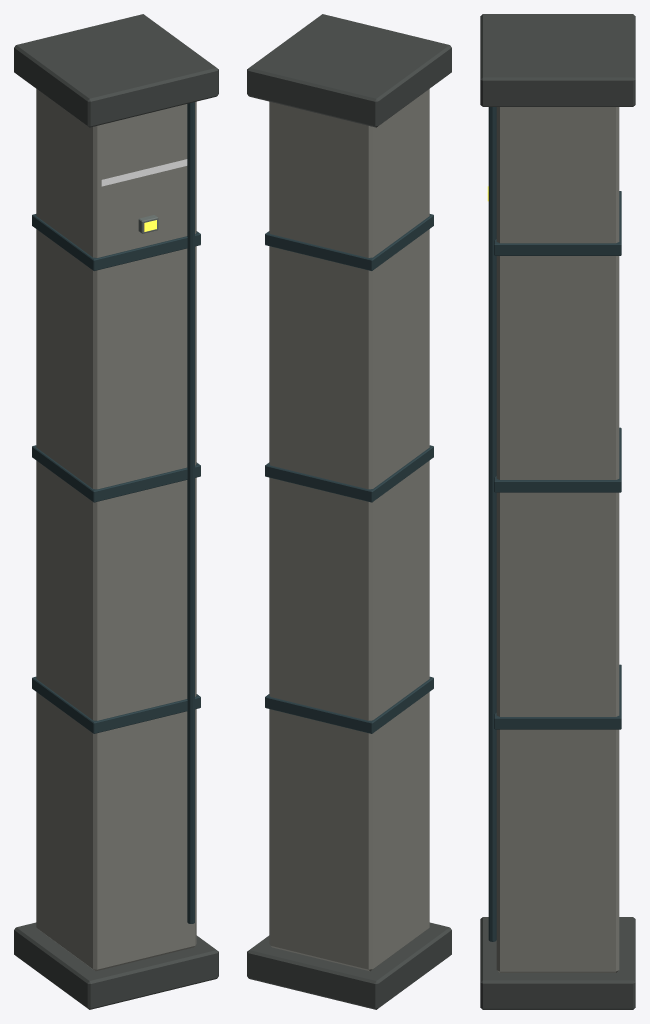
Rendered from core-support-pillar.glb.
The picture shows the model from 3 angles, left to right: view 1: azimuth 30°, elevation 25°; view 2: azimuth 150°, elevation 25°; view 3: azimuth 270°, elevation 25°; orthographic projection. The views are drawn at different scales.
Parts seen in each view (by area): view 1: core-support-pillar__core-support-pillar__concrete, core-support-pillar__core-support-pillar__concrete-dark, core-support-pillar__core-support-pillar__steel, core-support-pillar__core-support-pillar__decal-hazard; view 2: core-support-pillar__core-support-pillar__concrete, core-support-pillar__core-support-pillar__concrete-dark, core-support-pillar__core-support-pillar__steel; view 3: core-support-pillar__core-support-pillar__concrete, core-support-pillar__core-support-pillar__concrete-dark, core-support-pillar__core-support-pillar__steel.
Part boxes in pixels (left/top/right/bottom): core-support-pillar__core-support-pillar__concrete: left=36, top=89, right=196, bottom=971; core-support-pillar__core-support-pillar__concrete-dark: left=14, top=14, right=218, bottom=1009; core-support-pillar__core-support-pillar__steel: left=32, top=102, right=200, bottom=923; core-support-pillar__core-support-pillar__decal-hazard: left=101, top=159, right=187, bottom=186; core-support-pillar__core-support-pillar__concrete: left=269, top=89, right=429, bottom=971; core-support-pillar__core-support-pillar__concrete-dark: left=247, top=14, right=451, bottom=1009; core-support-pillar__core-support-pillar__steel: left=265, top=214, right=433, bottom=733; core-support-pillar__core-support-pillar__concrete: left=496, top=107, right=619, bottom=972; core-support-pillar__core-support-pillar__concrete-dark: left=480, top=14, right=635, bottom=1009; core-support-pillar__core-support-pillar__steel: left=488, top=107, right=621, bottom=941.
Bounding box in the file's own units: 1.9 × 12.6 × 1.9.
